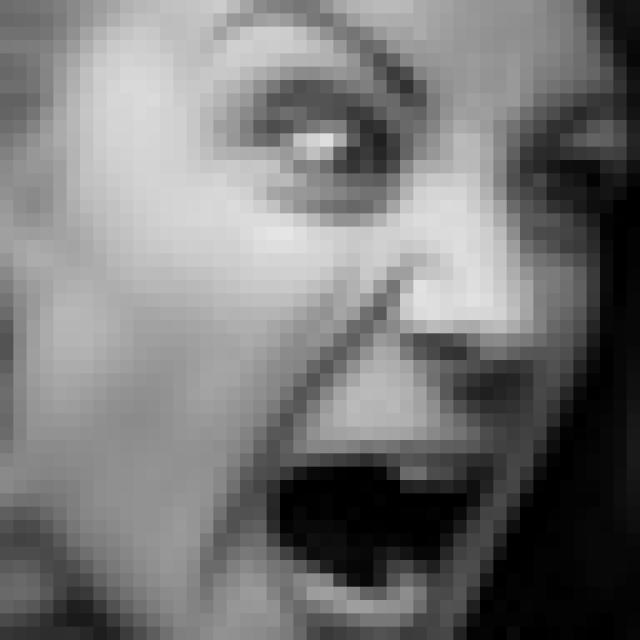angry: (194, 0, 625, 640)
